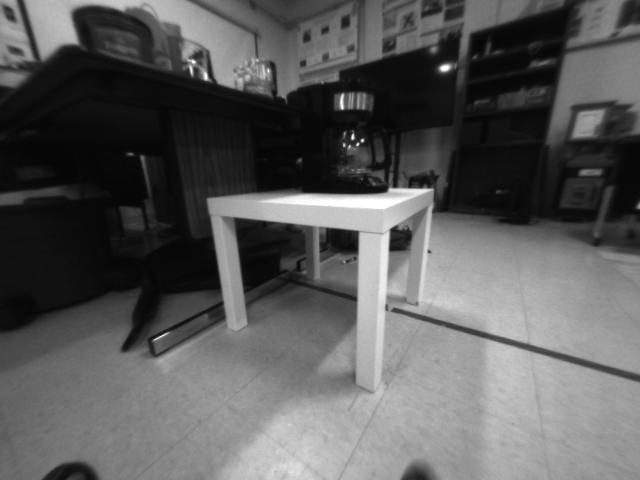coffee_pot: (283, 80, 398, 197)
